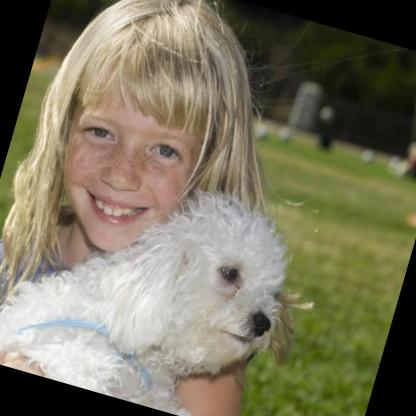miniature_poodle: (0, 131, 314, 416)
